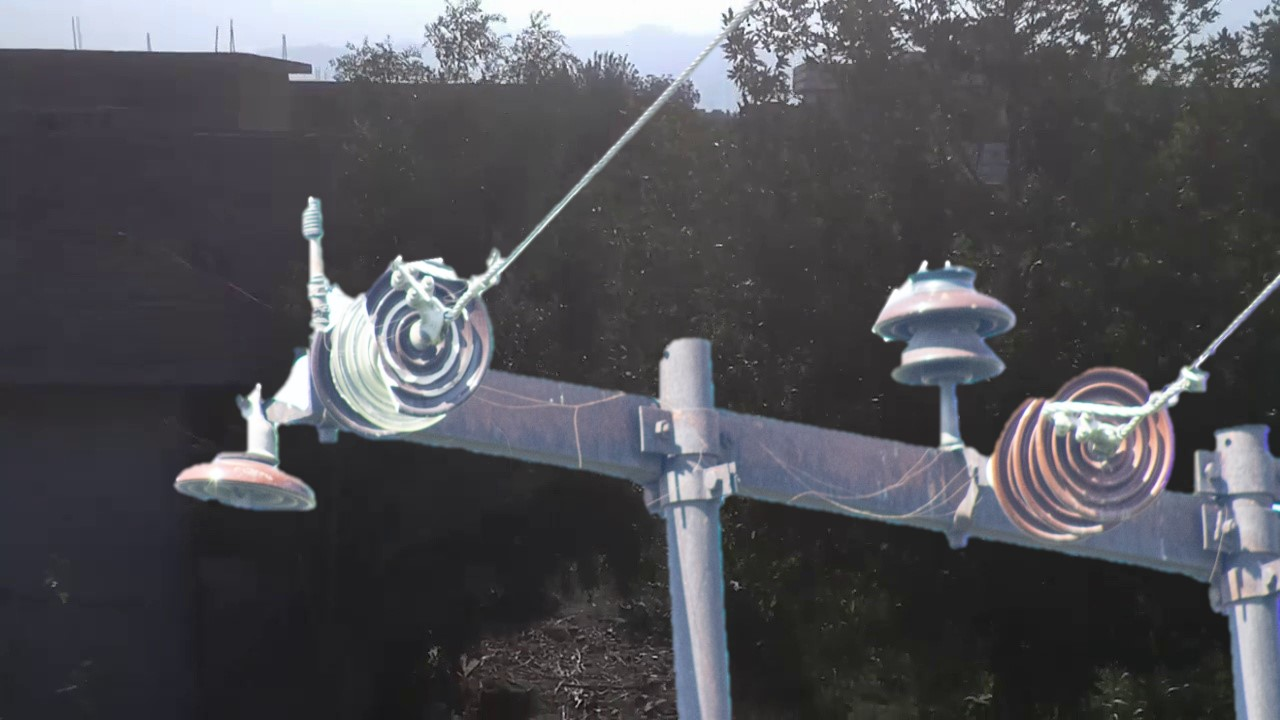defect_disc: (363, 254, 497, 424)
insulator_disc: (1033, 365, 1177, 526), (170, 436, 321, 520)
